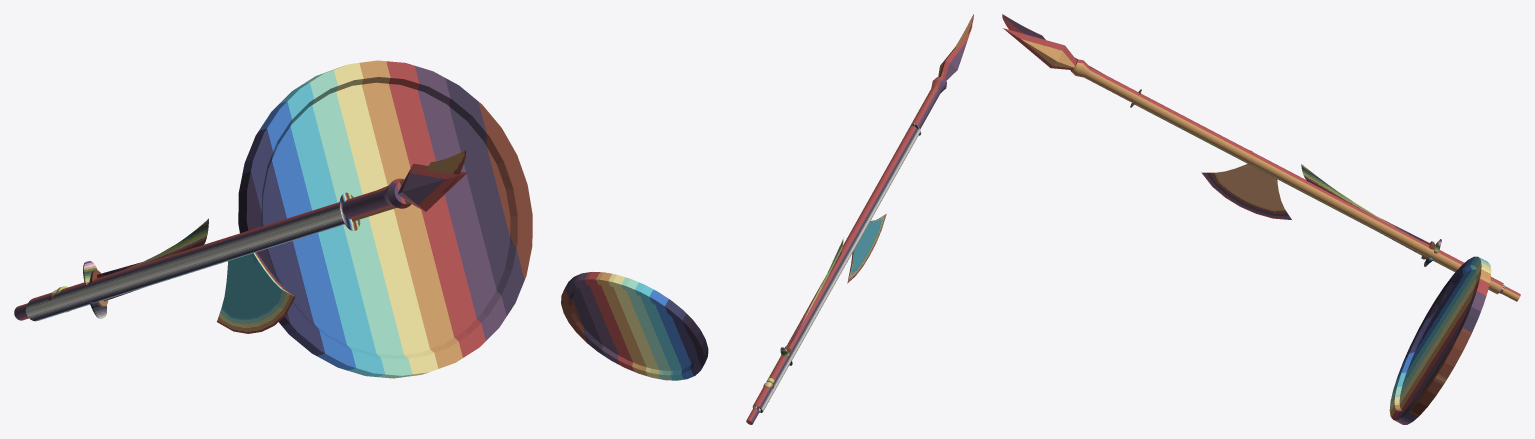
File: weapons.fbx
3 views of the same model, side by side, from view 1: azimuth 30°, elevation 25°; view 2: azimuth 150°, elevation 25°; view 3: azimuth 270°, elevation 25° (orthographic). The views are drawn at different scales.
Visible parts, largest first — view 1: shield, glaive, spear, axe, knife; view 2: shield, spear, glaive, axe, knife; view 3: shield, spear, axe, glaive, knife.
Boxes of the visible parts, x1,y1,x2,y2 form: shield: (238, 60, 532, 378); glaive: (25, 150, 465, 321); spear: (28, 163, 467, 303); axe: (217, 252, 295, 333); knife: (49, 218, 208, 318); shield: (561, 272, 708, 380); spear: (752, 26, 972, 407); glaive: (757, 14, 973, 412); axe: (753, 214, 886, 411); knife: (763, 237, 843, 388); shield: (1389, 256, 1491, 424); spear: (1003, 28, 1503, 293); axe: (1201, 164, 1504, 293); glaive: (1002, 14, 1497, 294); knife: (1301, 164, 1441, 266).
Bounding box in the file's own units: 153 × 177 × 262.
